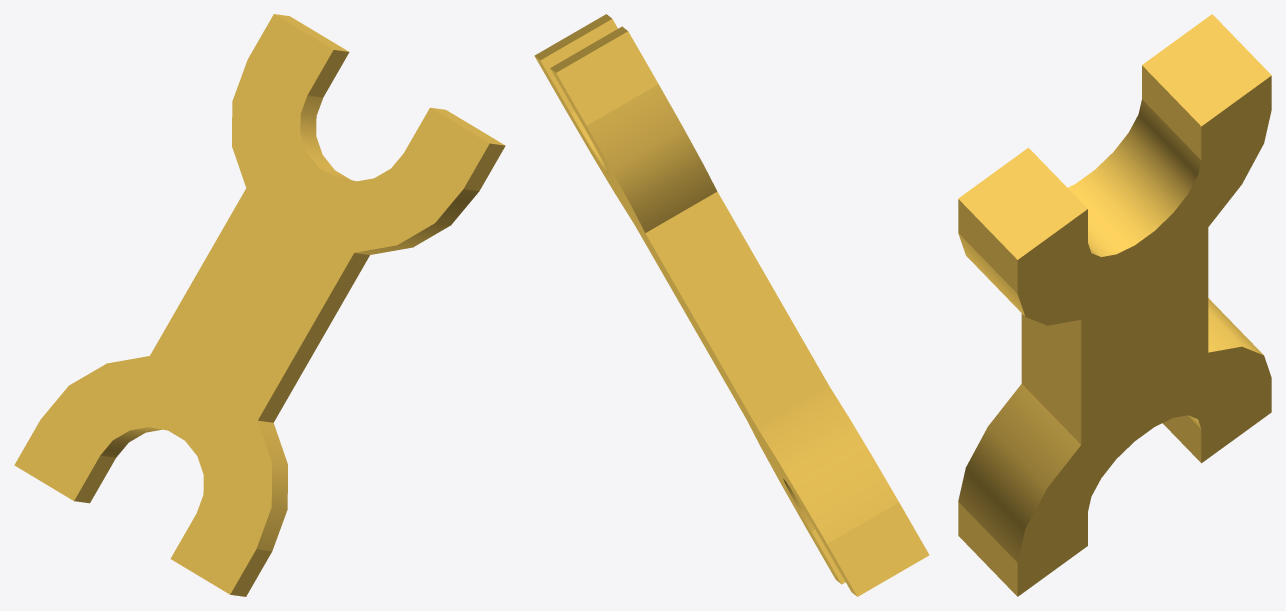
The model's file is Pickup_Health.FBX.
3 views of the same model, side by side, from view 1: azimuth 30°, elevation 25°; view 2: azimuth 150°, elevation 25°; view 3: azimuth 270°, elevation 25° (orthographic). The views are drawn at different scales.
Parts seen in each view (by area): view 1: Pickup_Health; view 2: Pickup_Health; view 3: Pickup_Health.
Part boxes in pixels (x1,y1,x2,y2): Pickup_Health: (14, 14, 505, 596); Pickup_Health: (534, 14, 929, 596); Pickup_Health: (958, 14, 1271, 596).
Bounding box in the file's own units: 387 × 446 × 196.
